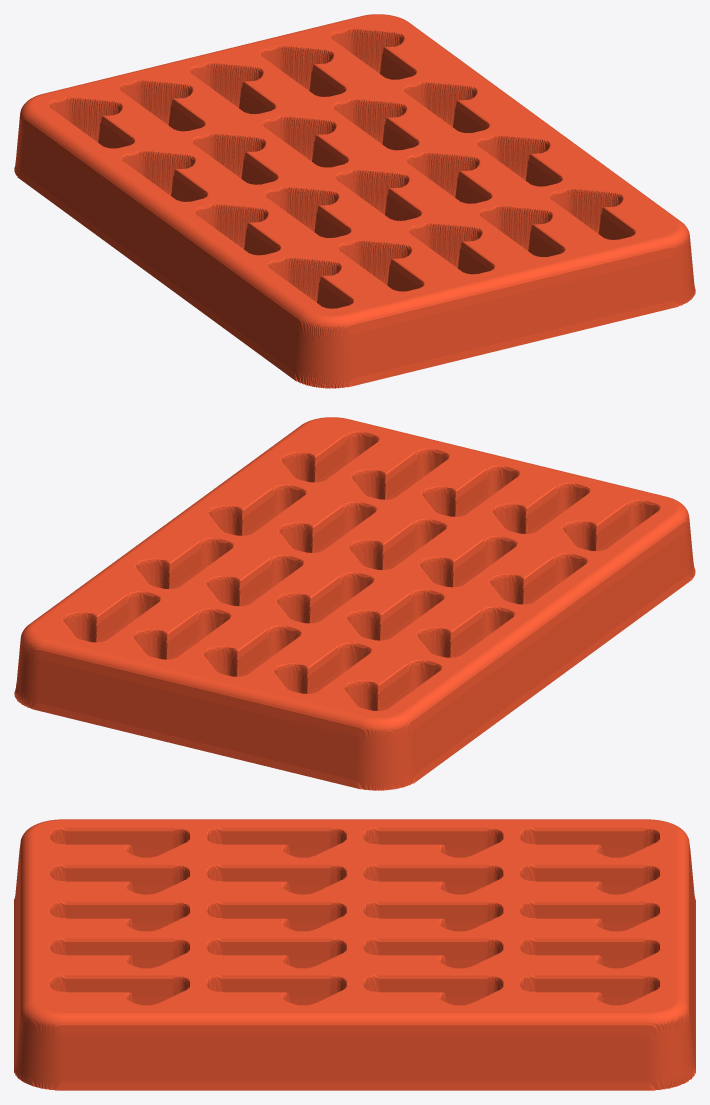
File: mold.glb
3 views of the same model, one above another, from view 1: azimuth 30°, elevation 25°; view 2: azimuth 150°, elevation 25°; view 3: azimuth 270°, elevation 25° (orthographic). The views are drawn at different scales.
Parts seen in each view (by area): view 1: geometry_0; view 2: geometry_0; view 3: geometry_0.
Boxes of the visible parts, box(x1,y1,x2,y2) form: geometry_0: box(14, 14, 695, 388); geometry_0: box(14, 417, 695, 790); geometry_0: box(14, 819, 695, 1090).
Bounding box in the file's own units: 0.0922 × 0.0145 × 0.1278.
